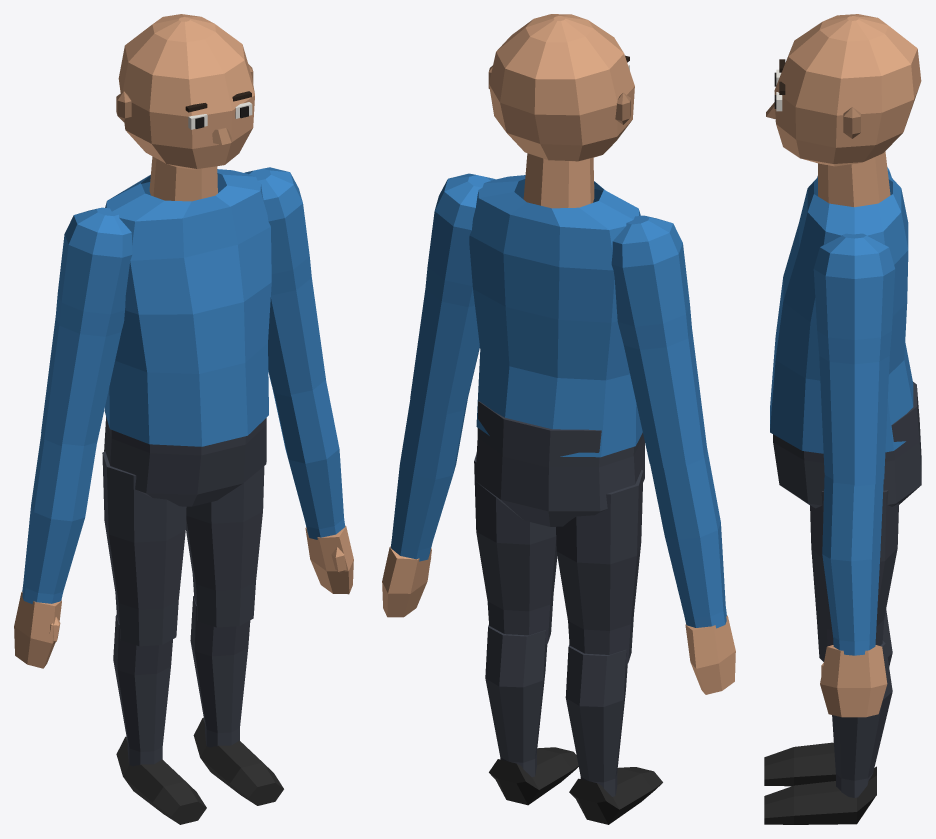
Rendered from petit_x_moyen.glb.
The picture shows the model from 3 angles, left to right: view 1: azimuth 30°, elevation 25°; view 2: azimuth 150°, elevation 25°; view 3: azimuth 270°, elevation 25°; orthographic projection. The views are drawn at different scales.
Parts seen in each view (by area): view 1: torse, tete, bras_d, jambe_d, avant_bras_d, bras_g, avant_bras_g, jambe_g, tibia_d, tibia_g, bassin; view 2: torse, tete, bras_d, bassin, bras_g, avant_bras_d, jambe_d, avant_bras_g, tibia_d, tibia_g, jambe_g; view 3: tete, bras_g, torse, avant_bras_g, tibia_g, bassin, jambe_g, tibia_d.
Part boxes in pixels (bbox=[...]): torse: bbox=[104, 169, 271, 446]; tete: bbox=[116, 14, 254, 201]; bras_d: bbox=[41, 207, 132, 446]; jambe_d: bbox=[102, 451, 186, 646]; avant_bras_d: bbox=[14, 434, 96, 668]; bras_g: bbox=[244, 167, 325, 396]; avant_bras_g: bbox=[272, 380, 353, 594]; jambe_g: bbox=[186, 466, 264, 627]; tibia_d: bbox=[113, 615, 206, 824]; tibia_g: bbox=[190, 596, 283, 805]; bassin: bbox=[104, 417, 266, 506]; torse: bbox=[469, 175, 642, 457]; tete: bbox=[488, 14, 634, 208]; bras_d: bbox=[611, 215, 706, 468]; bassin: bbox=[475, 400, 644, 526]; bras_g: bbox=[410, 173, 495, 414]; avant_bras_d: bbox=[650, 448, 735, 694]; jambe_d: bbox=[556, 470, 643, 663]; avant_bras_g: bbox=[382, 398, 467, 617]; tibia_d: bbox=[565, 644, 662, 824]; tibia_g: bbox=[485, 625, 578, 805]; jambe_g: bbox=[474, 453, 557, 644]; tete: bbox=[766, 14, 921, 207]; bras_g: bbox=[813, 233, 895, 486]; torse: bbox=[770, 174, 913, 453]; avant_bras_g: bbox=[820, 475, 887, 717]; tibia_g: bbox=[764, 641, 892, 824]; bassin: bbox=[773, 382, 921, 508]; jambe_g: bbox=[810, 490, 898, 661]; tibia_d: bbox=[764, 609, 892, 786].
Size of the model in its own units: 0.4822 by 1.08 by 0.197.
1 material, 1 textured.
